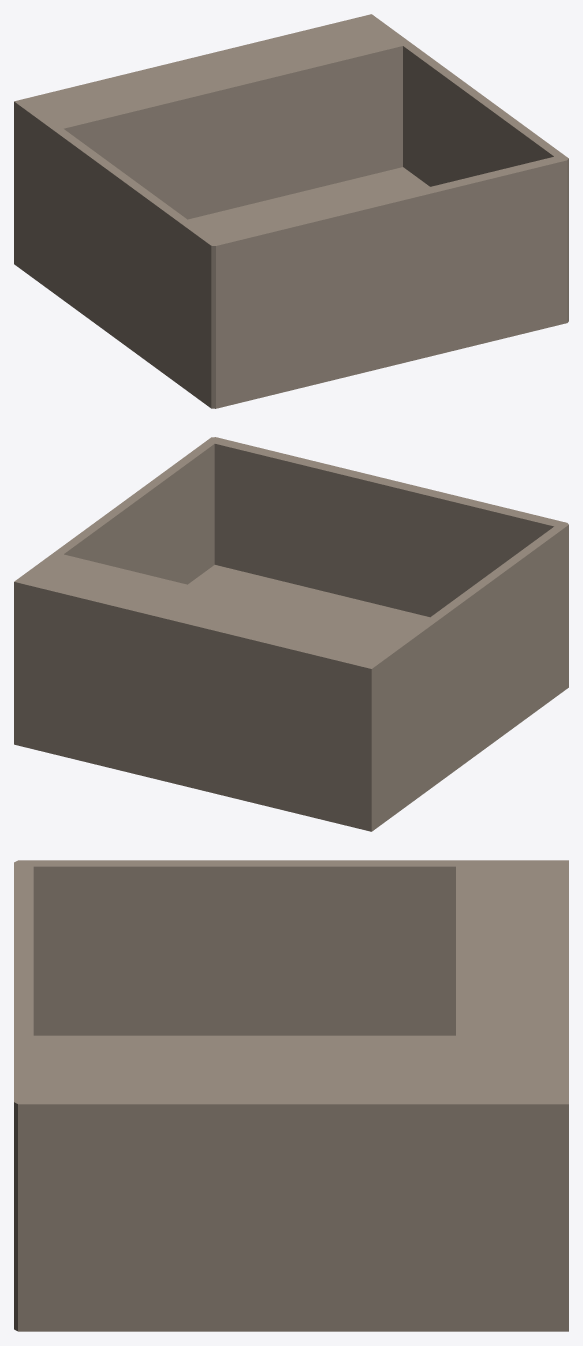
Rendered from Sink2_C3.fbx.
3 renders of one model, top to bottom at view 1: azimuth 30°, elevation 25°; view 2: azimuth 150°, elevation 25°; view 3: azimuth 270°, elevation 25°, orthographic. The views are drawn at different scales.
Visible parts, largest first — view 1: Sink2_C3; view 2: Sink2_C3; view 3: Sink2_C3.
Part boxes in pixels (x1=…): Sink2_C3: x1=14, y1=14, x2=568, y2=408; Sink2_C3: x1=14, y1=437, x2=568, y2=831; Sink2_C3: x1=14, y1=860, x2=568, y2=1331.
Bounding box in the file's own units: 58.98 × 25.65 × 56.76.
